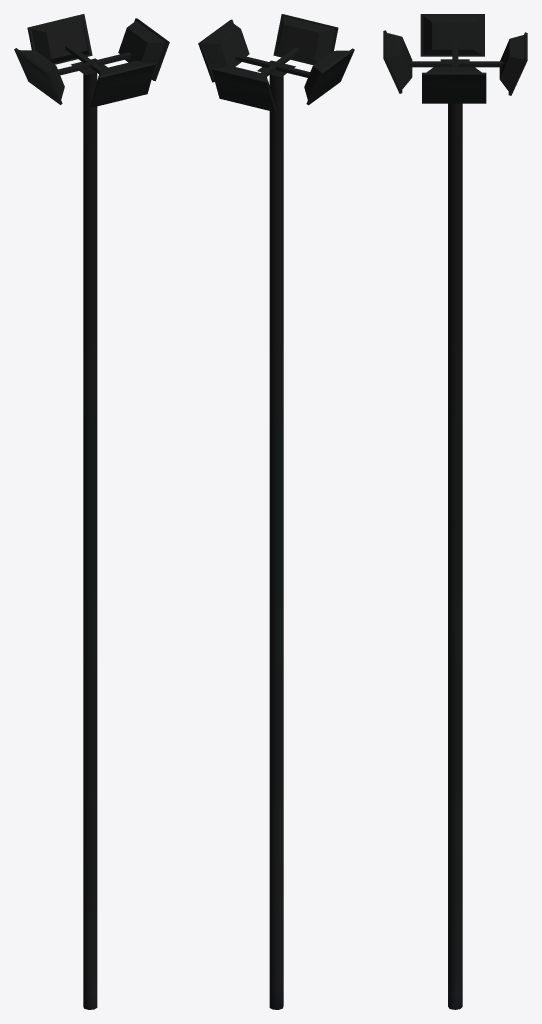
File: Light-02.obj
The picture shows the model from 3 angles, left to right: view 1: azimuth 30°, elevation 25°; view 2: azimuth 150°, elevation 25°; view 3: azimuth 270°, elevation 25°; orthographic projection.
Parts seen in each view (by area): view 1: Light-02_Cylinder.002; view 2: Light-02_Cylinder.002; view 3: Light-02_Cylinder.002.
Boxes of the visible parts, x1,y1,x2,y2 form: Light-02_Cylinder.002: (14,14,169,1009); Light-02_Cylinder.002: (198,14,354,1009); Light-02_Cylinder.002: (383,14,527,1009).
Bounding box in the file's own units: 1.79 × 13.28 × 1.8.
